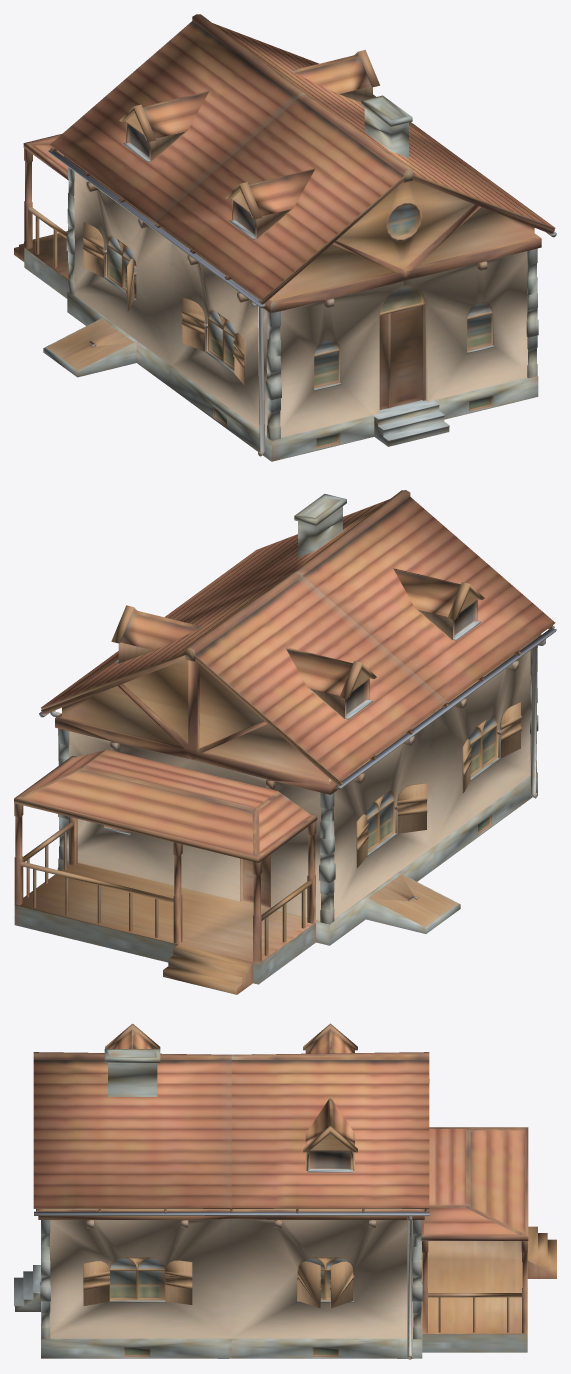
File: House.FBX
The picture shows the model from 3 angles, top to bottom: view 1: azimuth 30°, elevation 25°; view 2: azimuth 150°, elevation 25°; view 3: azimuth 270°, elevation 25°; orthographic projection. The views are drawn at different scales.
Parts seen in each view (by area): view 1: node_id4; view 2: node_id4; view 3: node_id4.
Boxes of the visible parts, x1,y1,x2,y2 form: node_id4: (14,14,556,461); node_id4: (14,490,556,994); node_id4: (14,1023,556,1359).
Size of the model in its own units: 0.512 by 0.3967 by 0.7559.
1 material, 1 textured.
